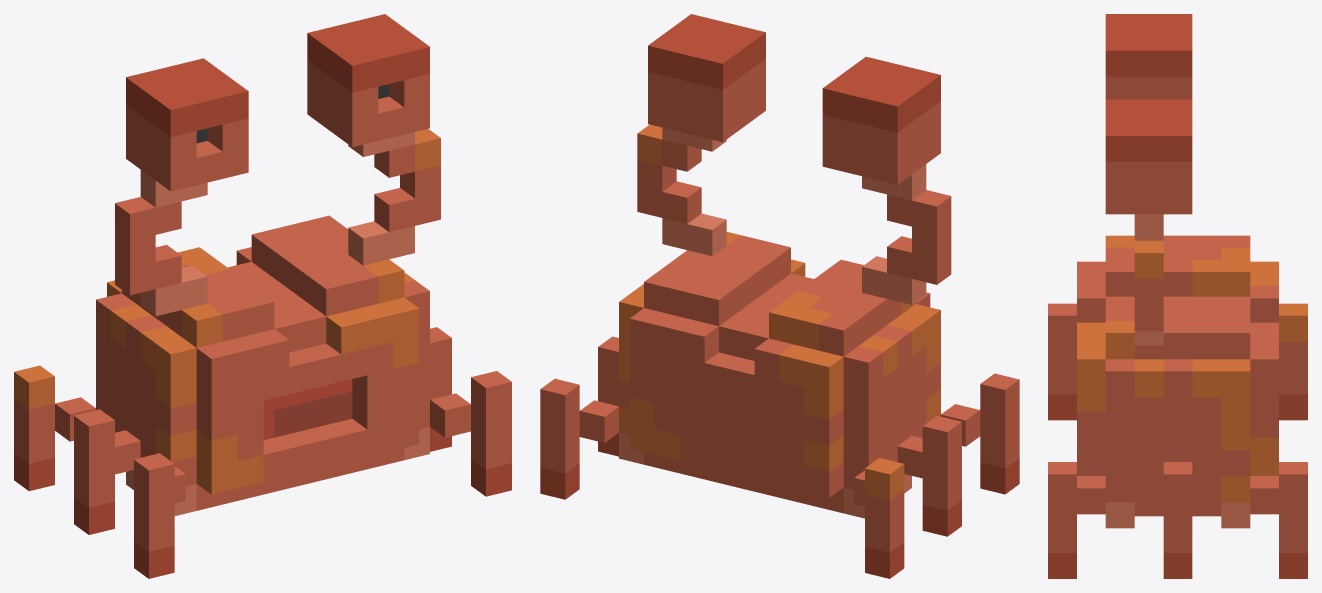
File: Voxels-4.obj
3 renders of one model, left to right at view 1: azimuth 30°, elevation 25°; view 2: azimuth 150°, elevation 25°; view 3: azimuth 270°, elevation 25°, orthographic. The views are drawn at different scales.
Visible parts, largest first — view 1: Voxels-4; view 2: Voxels-4; view 3: Voxels-4.
Part boxes in pixels (x1,y1,x2,y2): Voxels-4: [14, 14, 511, 578]; Voxels-4: [540, 14, 1019, 578]; Voxels-4: [1048, 14, 1307, 578].
Size of the model in its own units: 14 by 16 by 9.
1 material, 1 textured.
